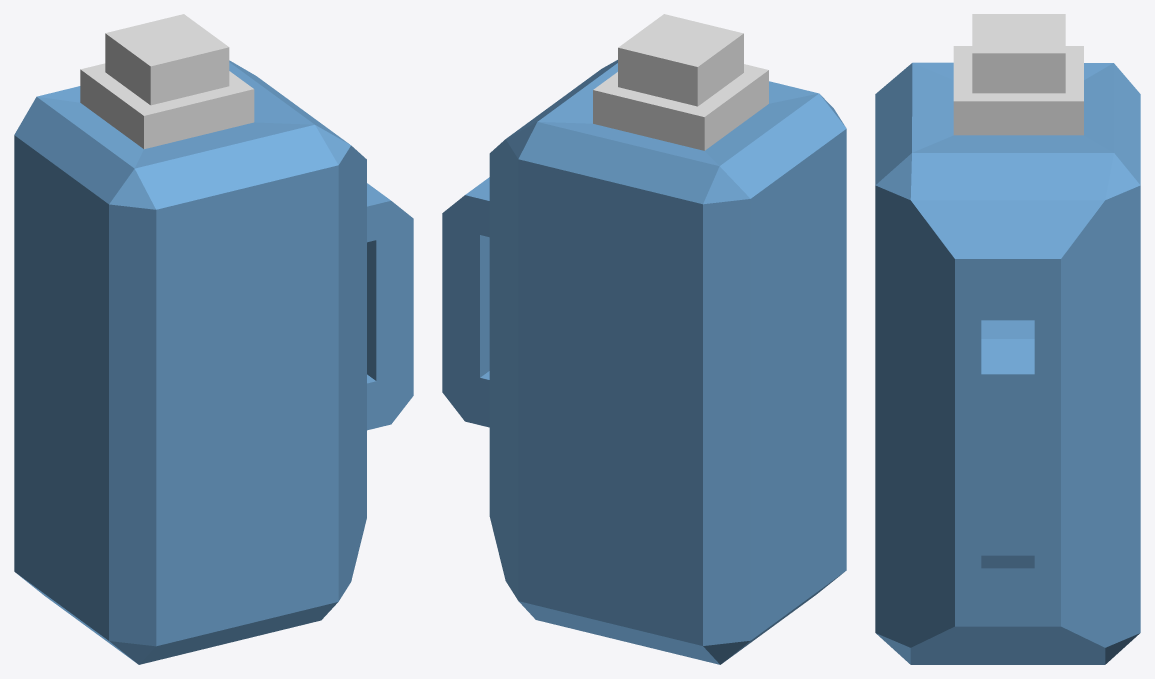
The model's file is Desinfetante.fbx.
3 renders of one model, left to right at view 1: azimuth 30°, elevation 25°; view 2: azimuth 150°, elevation 25°; view 3: azimuth 270°, elevation 25°, orthographic. The views are drawn at different scales.
Parts seen in each view (by area): view 1: Desinfetante; view 2: Desinfetante; view 3: Desinfetante.
Part boxes in pixels (x1,y1,x2,y2): Desinfetante: [14, 14, 413, 664]; Desinfetante: [442, 14, 846, 664]; Desinfetante: [875, 14, 1140, 664].
Bounding box in the file's own units: 227 × 362 × 150.
